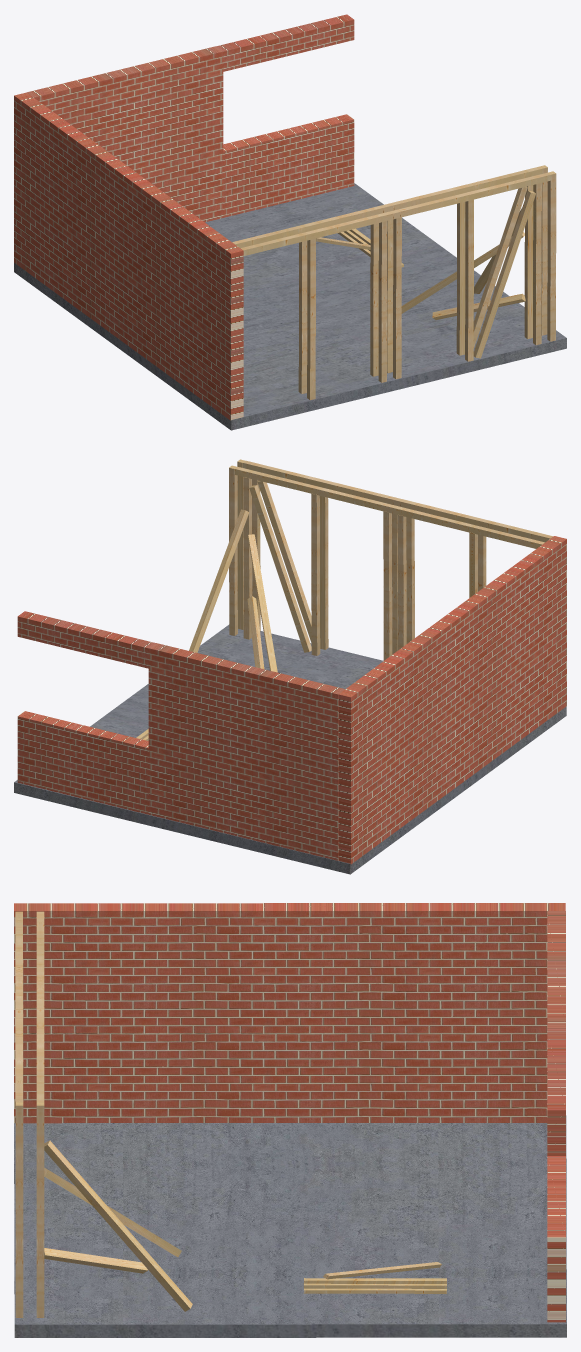
Rendered from newConstruction.fbx.
The picture shows the model from 3 angles, top to bottom: view 1: azimuth 30°, elevation 25°; view 2: azimuth 150°, elevation 25°; view 3: azimuth 270°, elevation 25°; orthographic projection. The views are drawn at different scales.
Parts seen in each view (by area): view 1: pCube7, pCube9, pCube2, pCube5, pCube44, pCube12, pCube13, pCube26, pCube15, pCube21, pCube27, pCube23 (+12 smaller); view 2: pCube7, pCube2, pCube9, pCube5, pCube44, pCube13, pCube12, pCube27, pCube26, pCube22, pCube30, pCube18 (+11 smaller); view 3: pCube7, pCube9, pCube5, pCube51, pCube2, pCube30, pCube44, pCube14, pCube15, pCube13, pCube12, pCube31 (+1 smaller).
Part boxes in pixels (x1=…): pCube7: x1=14, y1=92, x2=243, y2=420; pCube9: x1=14, y1=183, x2=566, y2=430; pCube2: x1=27, y1=46, x2=223, y2=222; pCube5: x1=223, y1=114, x2=354, y2=217; pCube44: x1=216, y1=14, x2=354, y2=71; pCube12: x1=240, y1=172, x2=550, y2=255; pCube13: x1=232, y1=166, x2=542, y2=248; pCube26: x1=473, y1=190, x2=535, y2=358; pCube15: x1=547, y1=171, x2=556, y2=341; pCube21: x1=378, y1=221, x2=387, y2=382; pCube27: x1=473, y1=186, x2=527, y2=348; pCube23: x1=465, y1=199, x2=473, y2=361; pCube7: x1=338, y1=536, x2=566, y2=864; pCube2: x1=148, y1=643, x2=344, y2=860; pCube9: x1=14, y1=624, x2=566, y2=874; pCube5: x1=17, y1=711, x2=148, y2=814; pCube44: x1=17, y1=611, x2=155, y2=668; pCube13: x1=234, y1=466, x2=544, y2=548; pCube12: x1=243, y1=460, x2=552, y2=542; pCube27: x1=249, y1=485, x2=311, y2=652; pCube26: x1=257, y1=481, x2=311, y2=642; pCube22: x1=311, y1=493, x2=320, y2=655; pCube30: x1=189, y1=509, x2=249, y2=652; pCube18: x1=383, y1=511, x2=392, y2=660; pCube7: x1=14, y1=903, x2=565, y2=1123; pCube9: x1=14, y1=1115, x2=566, y2=1337; pCube5: x1=547, y1=1156, x2=565, y2=1322; pCube51: x1=303, y1=1262, x2=446, y2=1293; pCube2: x1=547, y1=911, x2=565, y2=1155; pCube30: x1=44, y1=1140, x2=192, y2=1311; pCube44: x1=547, y1=1029, x2=565, y2=1136; pCube14: x1=36, y1=1102, x2=44, y2=1317; pCube15: x1=15, y1=1102, x2=23, y2=1317; pCube13: x1=36, y1=911, x2=44, y2=1101; pCube12: x1=15, y1=911, x2=22, y2=1108; pCube31: x1=44, y1=1248, x2=147, y2=1273.
Size of the model in its own units: 44.06 by 22.18 by 49.16.
3 materials, 3 textured.
